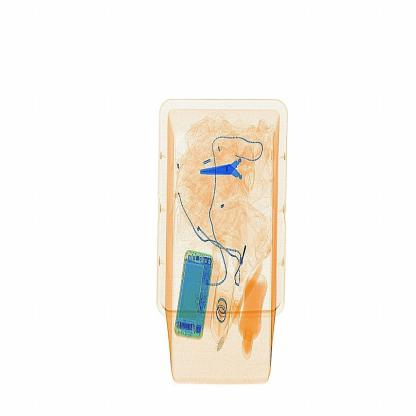gun: (193, 144, 270, 203)
